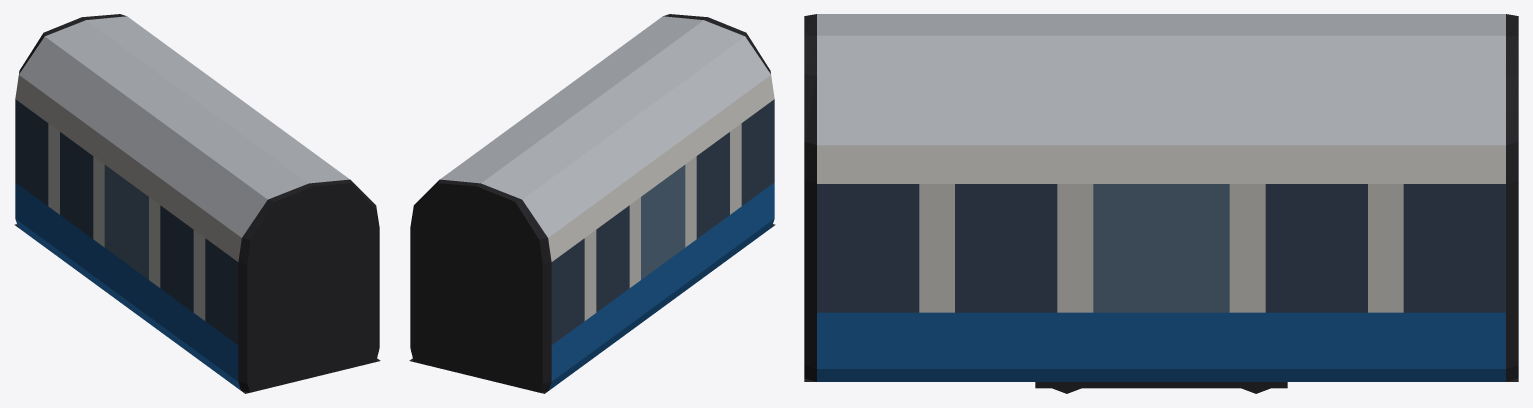
Rendered from flexity_mittel.glb.
3 views of the same model, side by side, from view 1: azimuth 30°, elevation 25°; view 2: azimuth 150°, elevation 25°; view 3: azimuth 270°, elevation 25° (orthographic). The views are drawn at different scales.
Visible parts, largest first — view 1: body; view 2: body; view 3: body.
Boxes of the visible parts, <box> form: body: <box>14,14,380,393</box>; body: <box>409,14,775,393</box>; body: <box>804,14,1518,393</box>.
Bounding box in the file's own units: 2.4 × 3.4 × 6.8.
